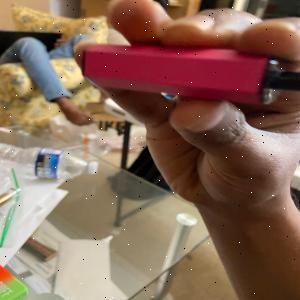Blume-E-Ciggirate: (76, 36, 300, 107)
